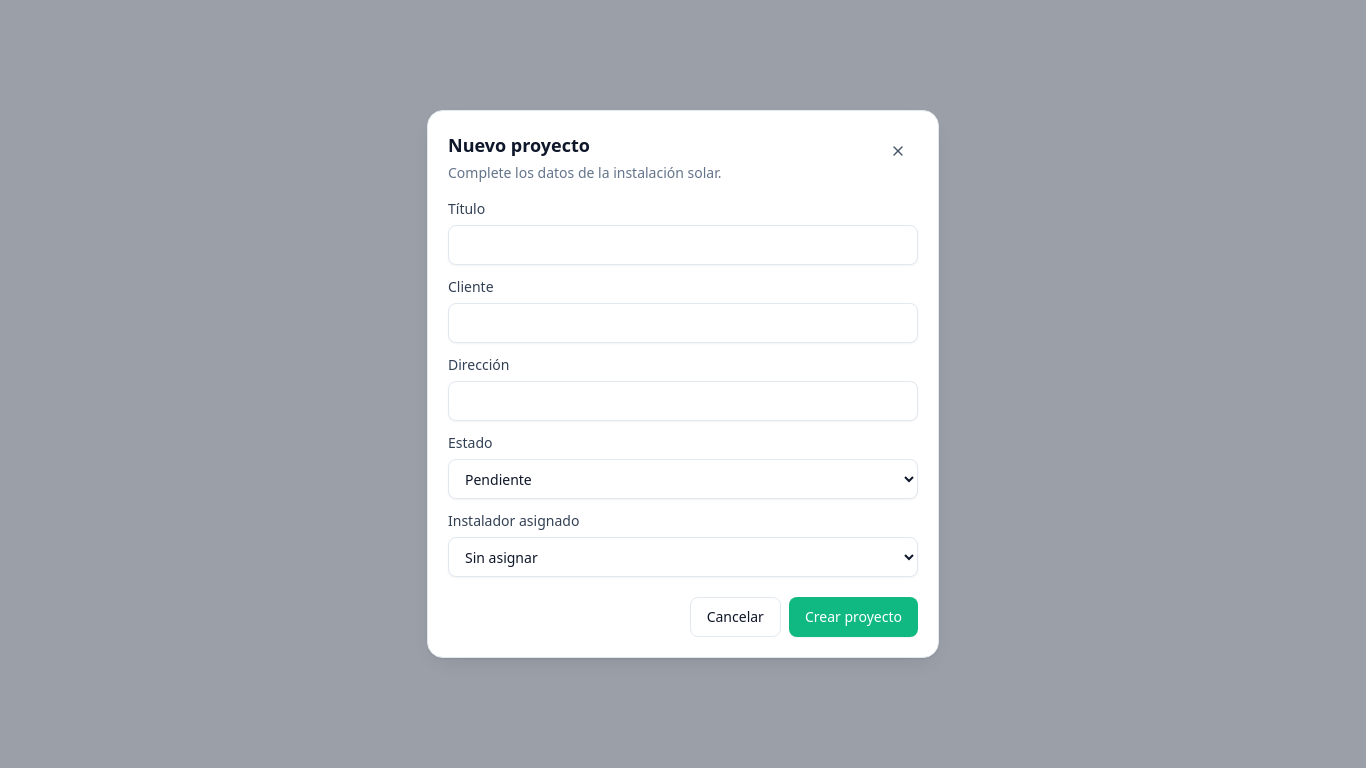
it: ProjectFormModal › no permite el envío si title, client_name y address están vacíos
Step 1. Click the button "Crear proyecto" → point(853, 617), box [789,597,918,637]
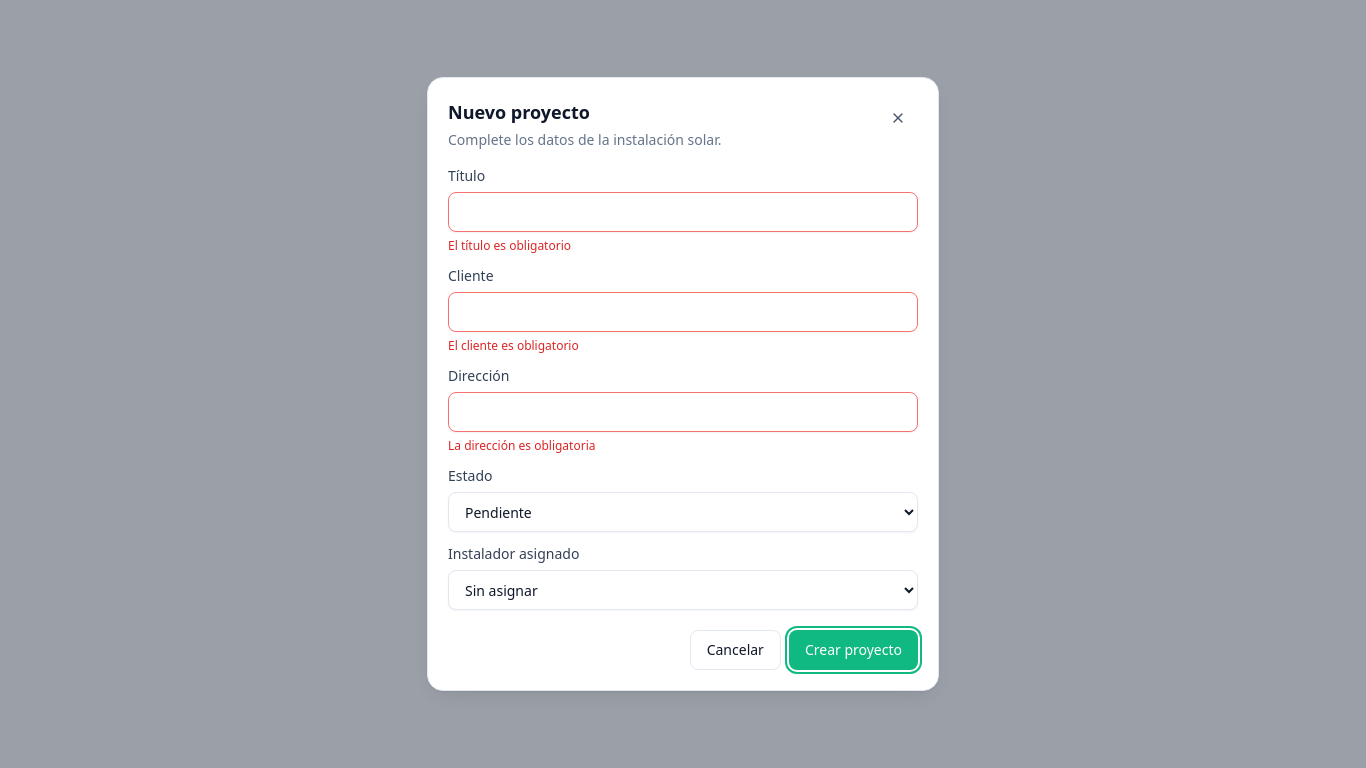
Result: the text "El título es obligatorio" is shown at [448,237,571,254]
Result: the text "El cliente es obligatorio" is shown at [448,337,579,354]
Result: the text "La dirección es obligatoria" is shown at [448,437,596,454]
